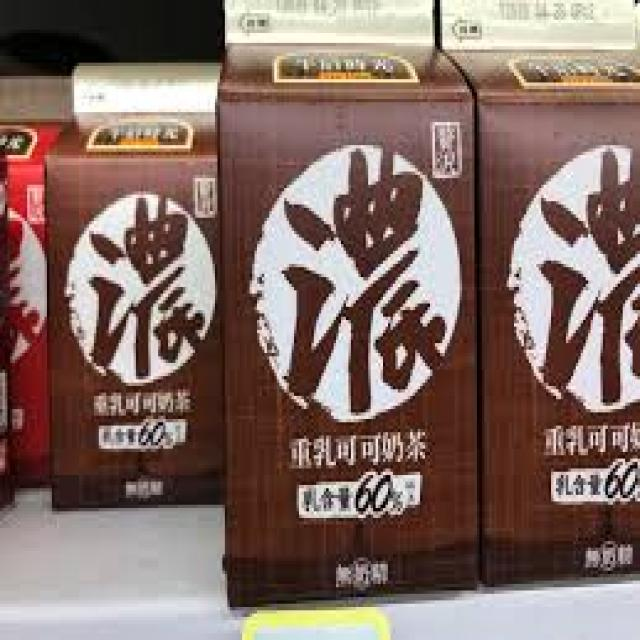Known_ChocoMilkTea: (226, 1, 481, 595), (447, 0, 640, 585), (50, 68, 226, 501)
Known_MilkTea: (0, 75, 52, 487)
